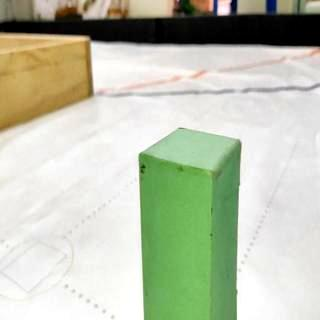greenbox: (138, 125, 242, 320)
